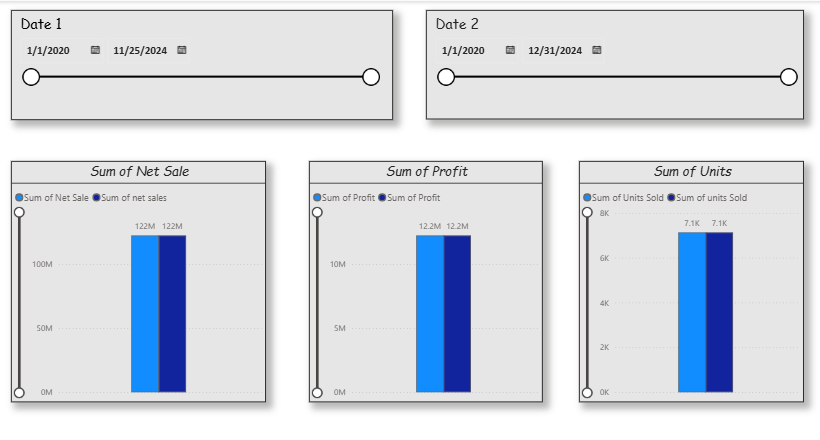

The page's visual inventory and layout, read from the dashboard file:
{"tool":"powerbi","page":{"name":"Requirement 4","canvas":[1280,720],"ordinal":2},"visuals":[{"type":"slicer","fields":{"Values":["Data Table 2.Date"]},"box":[687.8,13.2,553.2,159.5],"z":0},{"type":"clusteredColumnChart","title":"Sum of Net Sale","fields":{"Y":["Sum(Fect.Net Sale)","Data Table 1.Sum of net sales"]},"box":[80.5,234.1,373.2,352.7],"z":1000},{"type":"clusteredColumnChart","title":"Sum of Profit","fields":{"Y":["Sum(Fact.Profit)","Data Table 1.Sum of Profit"]},"box":[516.6,234.1,342.4,352.7],"z":2000},{"type":"clusteredColumnChart","title":"Sum of Units","fields":{"Y":["Sum(Fact.Units Sold)","Data Table 1.Sum of units Sold"]},"box":[911.7,234.1,329.3,352.7],"z":3000},{"type":"slicer","fields":{"Values":["Data Table 1.Date"]},"box":[80.5,13.2,559,161],"z":4000}]}

Visuals, with their boxes on the page's 1280x720 design canvas (x1, y1, x2, y2). These are canvas units, not pixel positions in the 820x440 screenshot, which may show the page scaled, cropped or inside an application window:
slicer - Data Table 2.Date: detection(688, 13, 1241, 173)
"Sum of Net Sale" clusteredColumnChart: detection(80, 234, 454, 587)
"Sum of Profit" clusteredColumnChart: detection(517, 234, 859, 587)
"Sum of Units" clusteredColumnChart: detection(912, 234, 1241, 587)
slicer - Data Table 1.Date: detection(80, 13, 640, 174)
